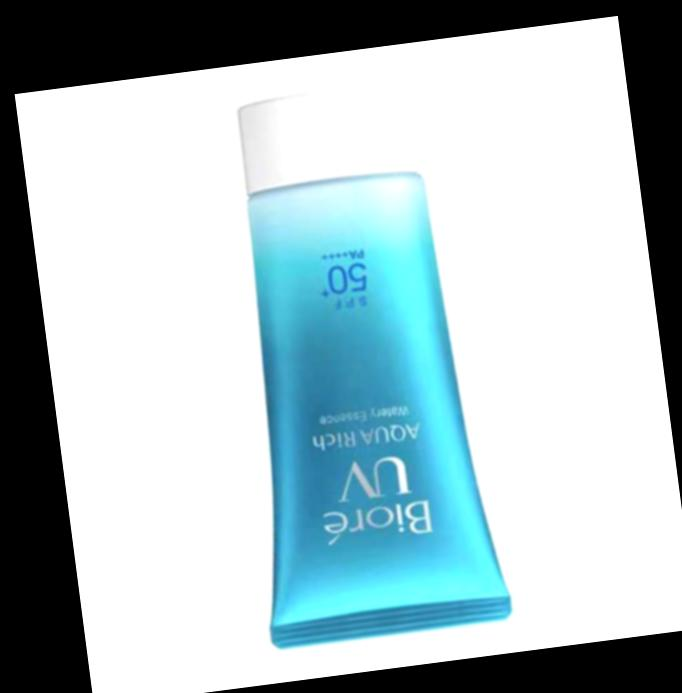cosmetic: (200, 74, 516, 652)
